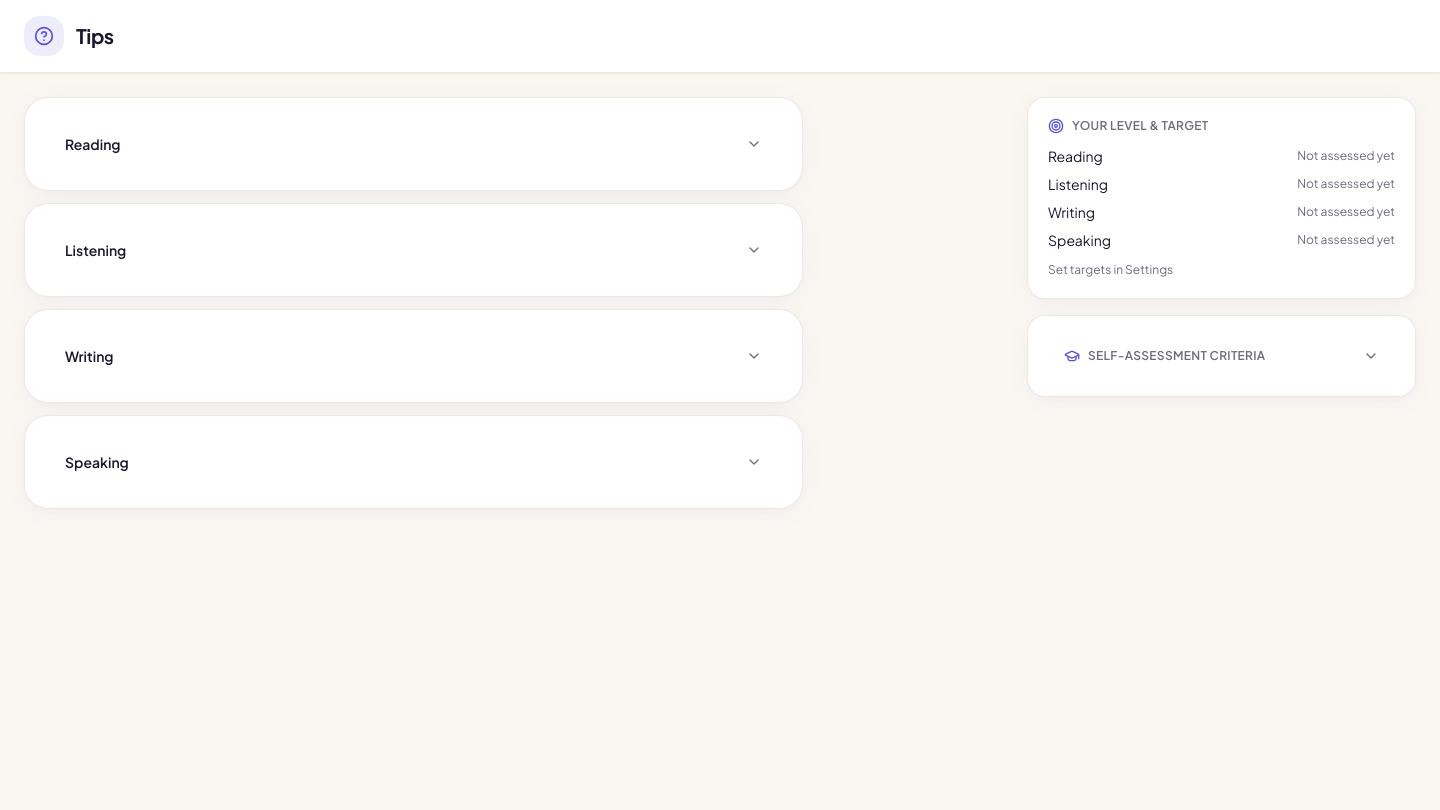
Tips › renders reading tips bullets
// expand reading (if collapsed) then see a bullet
Click the button "Reading".
click(93, 144)  # box [45,118,782,170]
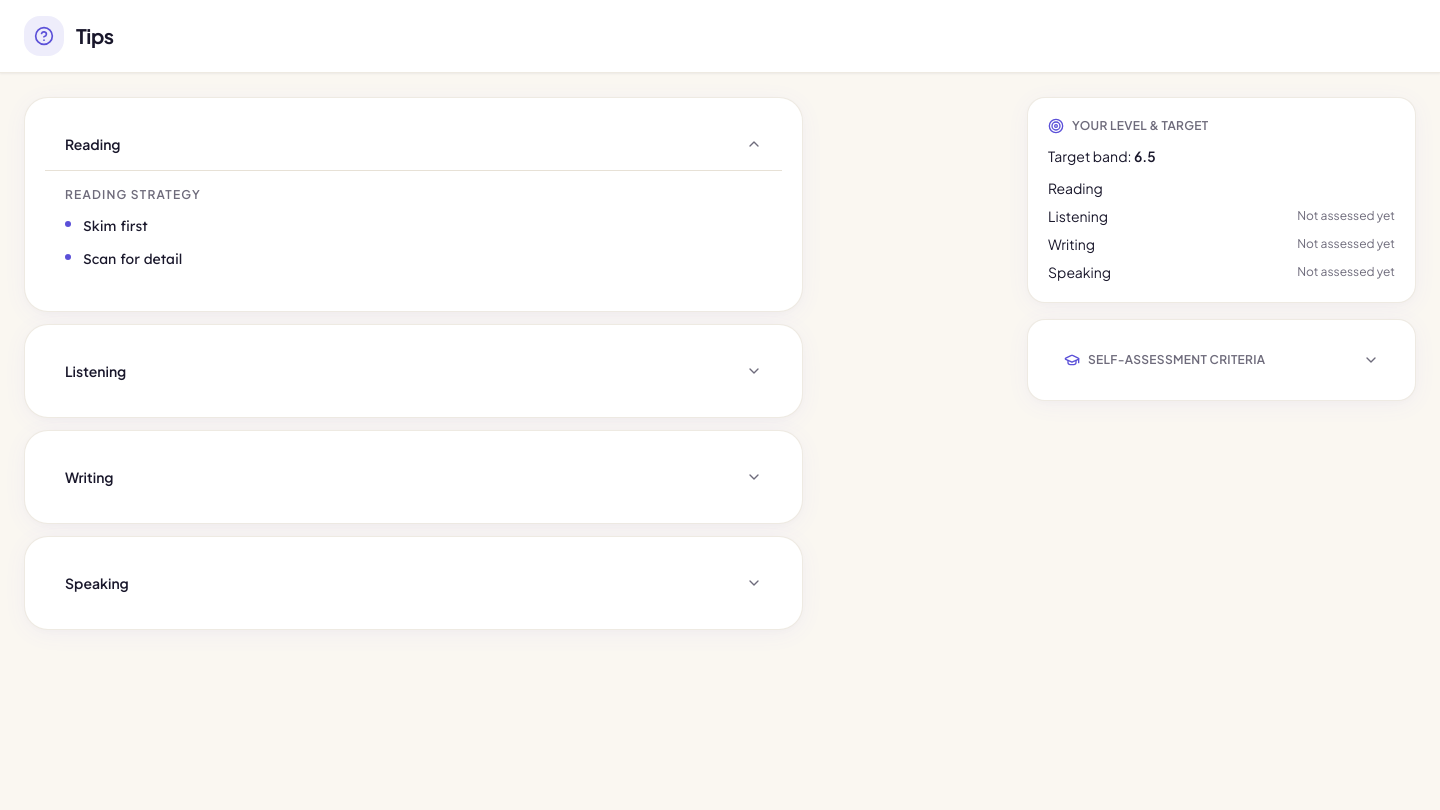
Expected: the text "Skim first" is shown, [83,215,148,238]
